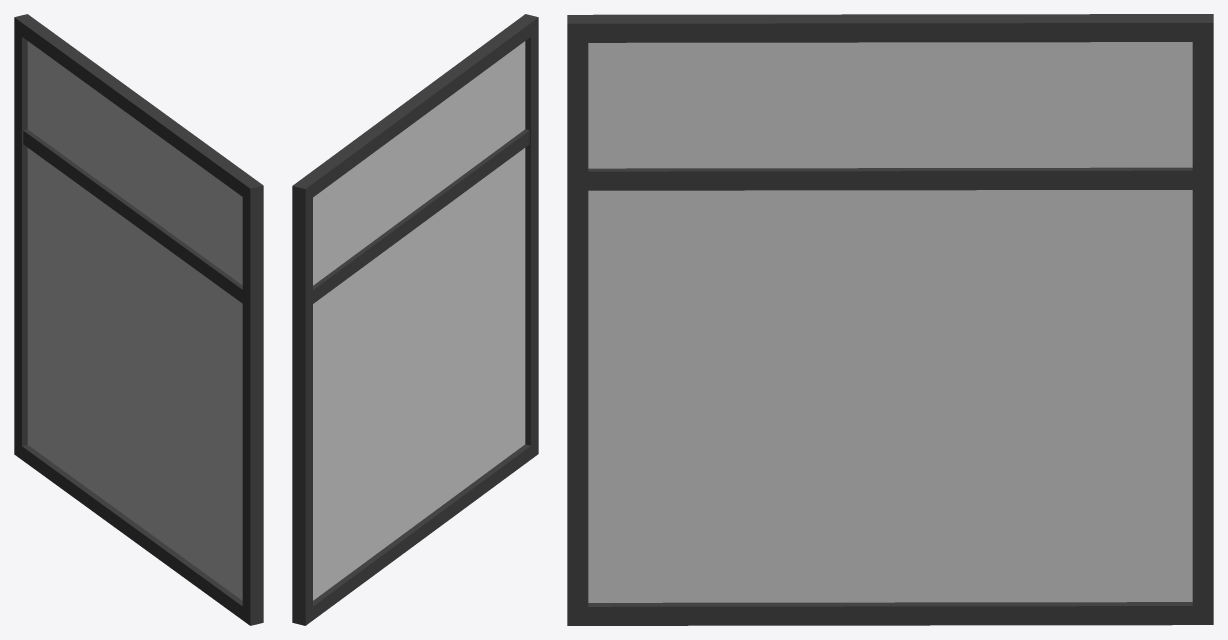
Rendered from Seperator19.fbx.
The picture shows the model from 3 angles, left to right: view 1: azimuth 30°, elevation 25°; view 2: azimuth 150°, elevation 25°; view 3: azimuth 270°, elevation 25°; orthographic projection. The views are drawn at different scales.
Visible parts, largest first — view 1: Seperator19; view 2: Seperator19; view 3: Seperator19.
Boxes of the visible parts, x1,y1,x2,y2 form: Seperator19: (14,14,263,625); Seperator19: (292,14,538,625); Seperator19: (567,14,1213,625).
Size of the model in its own units: 0.055 by 1.53 by 1.58.
